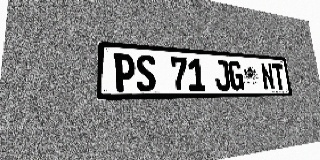1: (187, 58, 206, 91)
7: (169, 57, 189, 91)
G: (228, 60, 244, 90)
J: (213, 59, 231, 91)
N: (260, 63, 275, 90)
P: (113, 53, 136, 92)
S: (135, 54, 156, 91)
T: (272, 63, 286, 90)
